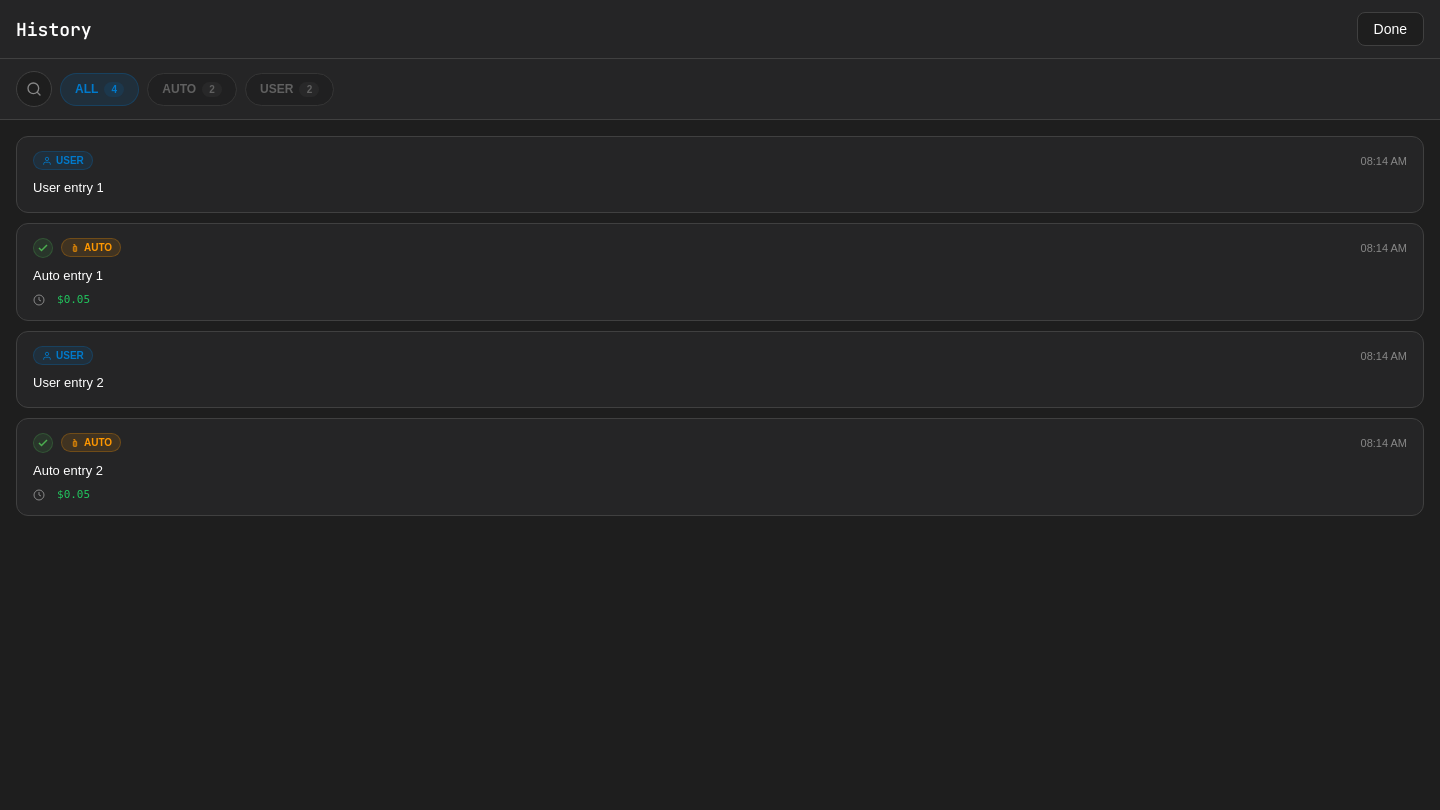
Scenario: MobileHistoryPanel › Filter functionality › filters to USER entries only
The image size is (1440, 810).
Click the button "USER 2" at (290, 89), box x1=245 y1=72 x2=334 y2=106
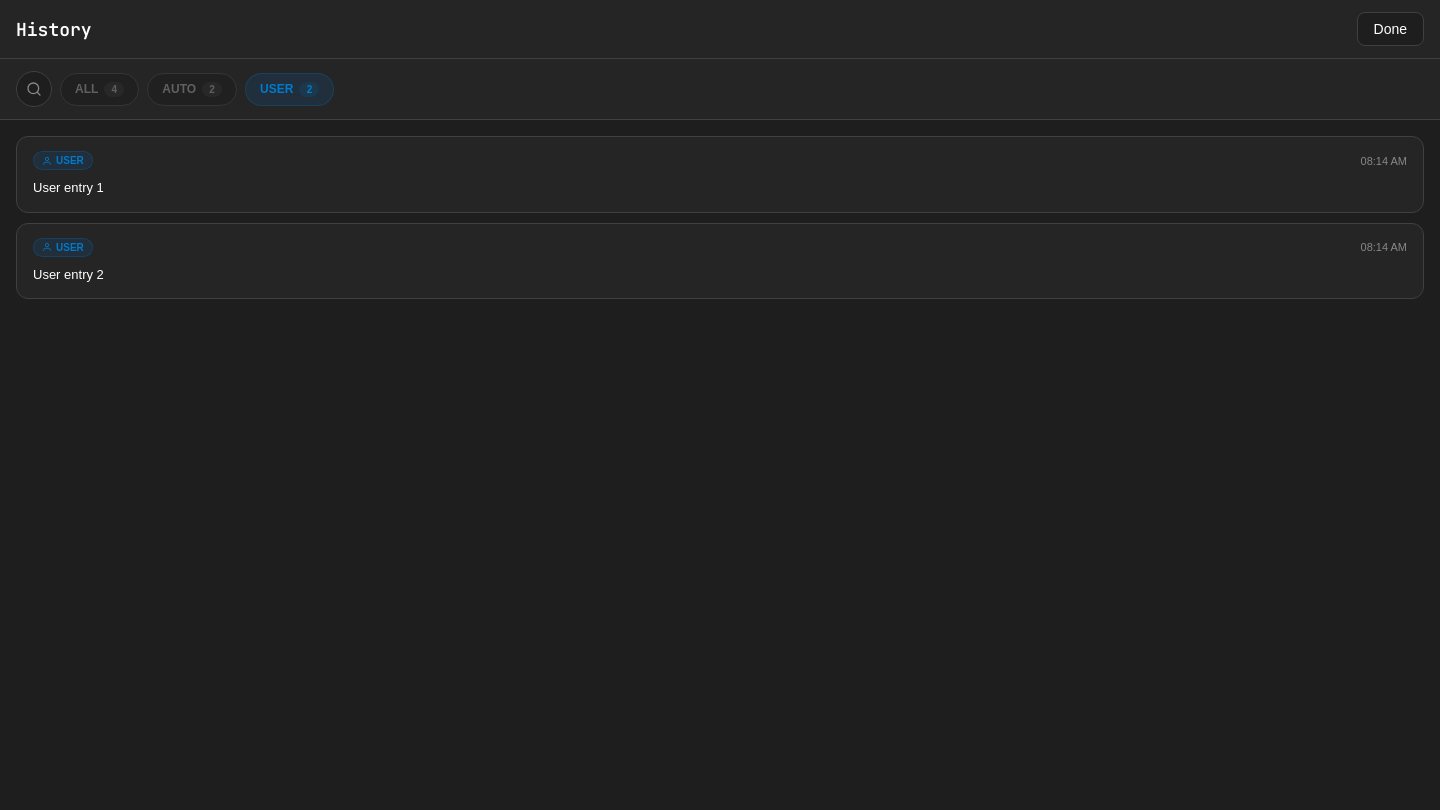
Expected: the text "User entry 1" is shown, x1=33 y1=178 x2=104 y2=198
Expected: the button "Auto entry 1" is gone
Expected: the button "Auto entry 2" is gone
